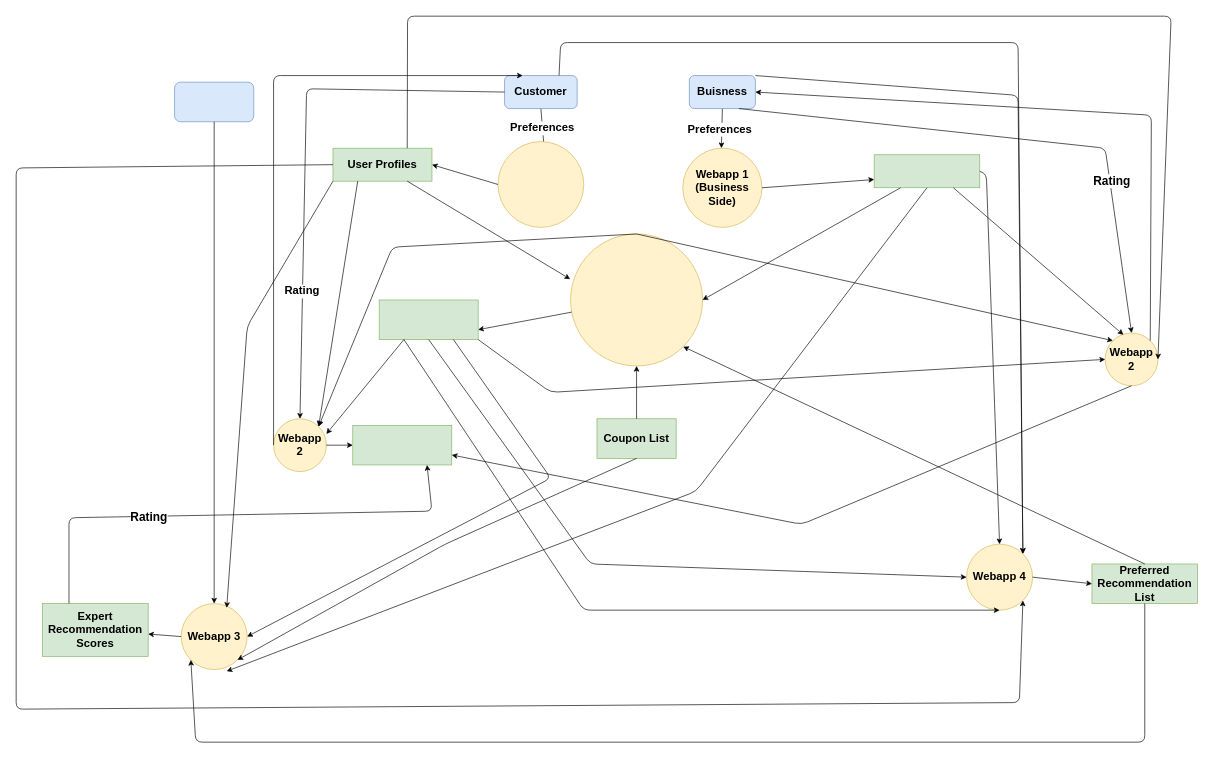
This 1209x759 diagram has some shape labels left out. The centre of each missing label's shape, as x and y in pixels:
"Business Profiles" goes at (927,171).
"Recommendation Finder" goes at (636,299).
"Recommendation List" goes at (428,319).
"Recommendation Scores" goes at (402,445).
"Third-Party Expert" goes at (214,102).
"Webapp 1 (User Side)" goes at (540,184).
